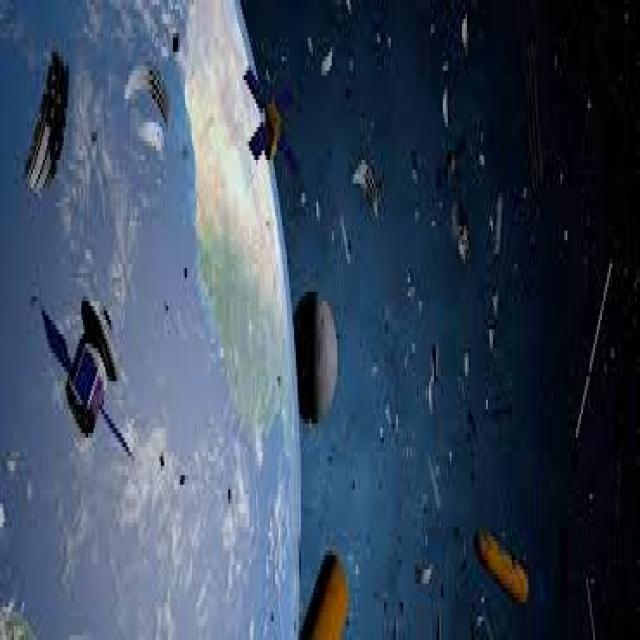debris: (235, 4, 560, 640), (577, 222, 632, 640), (121, 24, 187, 185), (21, 34, 77, 220)
sat: (30, 244, 149, 510)
